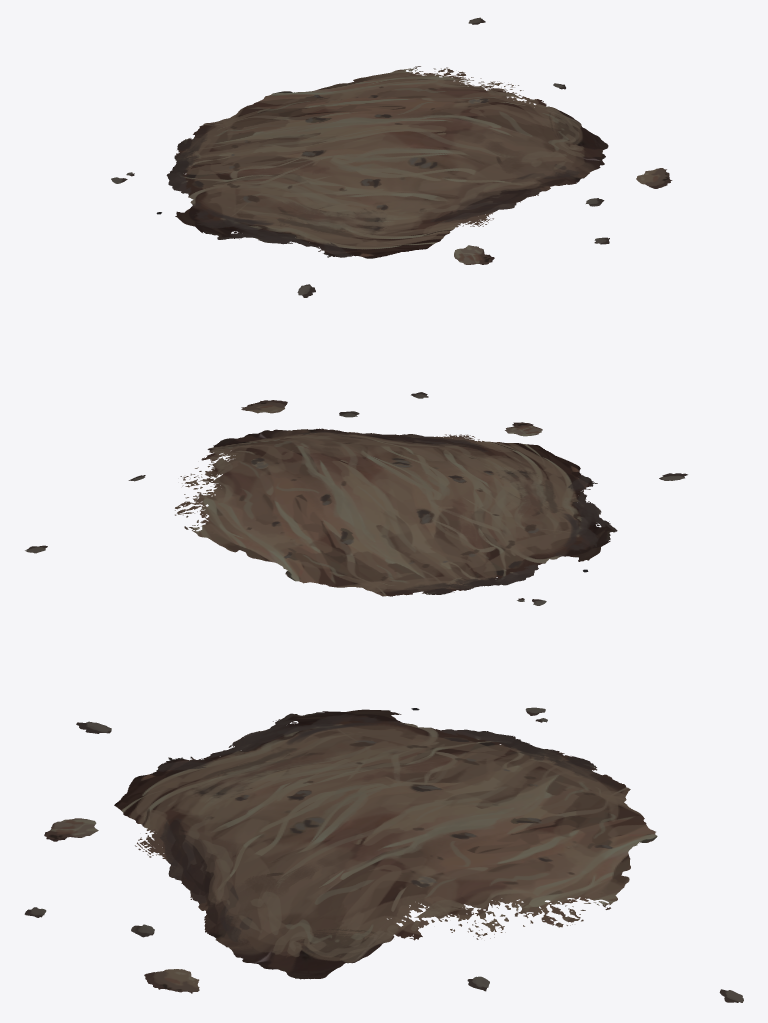
Rendered from sand_pile.fbx.
3 views of the same model, one above another, from view 1: azimuth 30°, elevation 25°; view 2: azimuth 150°, elevation 25°; view 3: azimuth 270°, elevation 25° (orthographic). The views are drawn at different scales.
Parts seen in each view (by area): view 1: sand_pile; view 2: sand_pile; view 3: sand_pile.
Boxes of the visible parts, x1,y1,x2,y2 form: sand_pile: [111, 17, 672, 297]; sand_pile: [25, 392, 687, 605]; sand_pile: [24, 707, 743, 1002].
Bounding box in the file's own units: 266 × 19.33 × 266.
